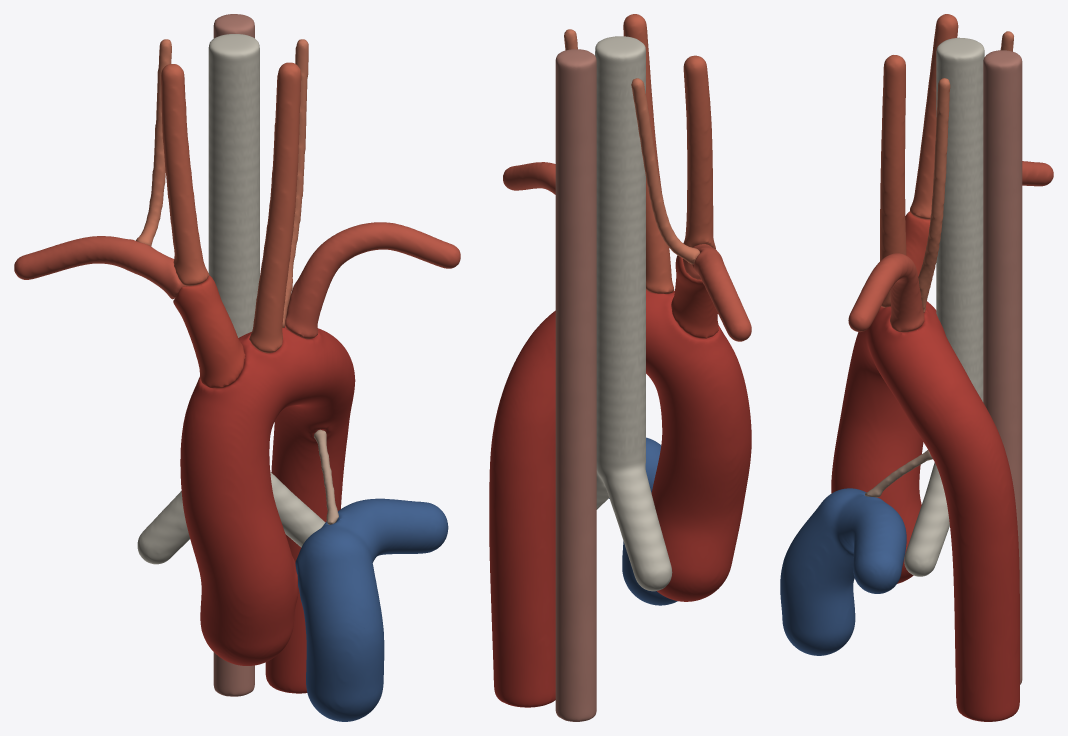
The model's file is aorta_direct_lva.glb.
3 renders of one model, left to right at view 1: azimuth 30°, elevation 25°; view 2: azimuth 150°, elevation 25°; view 3: azimuth 270°, elevation 25°, orthographic. The views are drawn at different scales.
Visible parts, largest first — view 1: aorta, pulmonary_trunk, trachea, left_common_carotid, left_subclavian, right_common_carotid, right_subclavian, brachiocephalic_trunk, oesophagus, right_vertebral, left_vertebral, ligamentum_arteriosum; view 2: aorta, oesophagus, trachea, right_common_carotid, left_common_carotid, right_subclavian, right_vertebral, brachiocephalic_trunk, pulmonary_trunk, left_subclavian; view 3: aorta, trachea, oesophagus, pulmonary_trunk, left_common_carotid, left_subclavian, right_common_carotid, left_vertebral, brachiocephalic_trunk, right_subclavian, ligamentum_arteriosum.
Boxes of the visible parts, left/top/right/bottom form: aorta: left=180, top=326, right=355, bottom=693; pulmonary_trunk: left=295, top=498, right=448, bottom=721; trachea: left=137, top=34, right=325, bottom=564; left_common_carotid: left=249, top=62, right=301, bottom=353; left_subclavian: left=285, top=222, right=460, bottom=339; right_common_carotid: left=161, top=64, right=209, bottom=285; right_subclavian: left=14, top=236, right=189, bottom=299; brachiocephalic_trunk: left=173, top=275, right=245, bottom=388; oesophagus: left=213, top=14, right=254, bottom=696; right_vertebral: left=136, top=39, right=171, bottom=246; left_vertebral: left=282, top=39, right=308, bottom=327; ligamentum_arteriosum: left=314, top=429, right=338, bottom=524; aorta: left=489, top=290, right=751, bottom=707; oesophagus: left=555, top=49, right=596, bottom=721; trachea: left=595, top=36, right=672, bottom=591; right_common_carotid: left=683, top=55, right=715, bottom=249; left_common_carotid: left=623, top=14, right=674, bottom=293; right_subclavian: left=682, top=244, right=751, bottom=341; right_vertebral: left=631, top=78, right=700, bottom=264; brachiocephalic_trunk: left=671, top=250, right=718, bottom=338; pulmonary_trunk: left=609, top=437, right=677, bottom=605; left_subclavian: left=503, top=162, right=555, bottom=194; aorta: left=831, top=301, right=1019, bottom=721; trachea: left=904, top=37, right=984, bottom=576; oesophagus: left=983, top=50, right=1022, bottom=684; pulmonary_trunk: left=780, top=488, right=906, bottom=655; left_common_carotid: left=880, top=55, right=906, bottom=307; left_subclavian: left=848, top=253, right=924, bottom=332; right_common_carotid: left=910, top=14, right=958, bottom=219; left_vertebral: left=918, top=78, right=950, bottom=312; brachiocephalic_trunk: left=905, top=211, right=930, bottom=276; right_subclavian: left=1022, top=161, right=1053, bottom=186; ligamentum_arteriosum: left=865, top=450, right=932, bottom=497.
Bounding box in the file's own units: 12.31 × 22.78 × 8.97.
